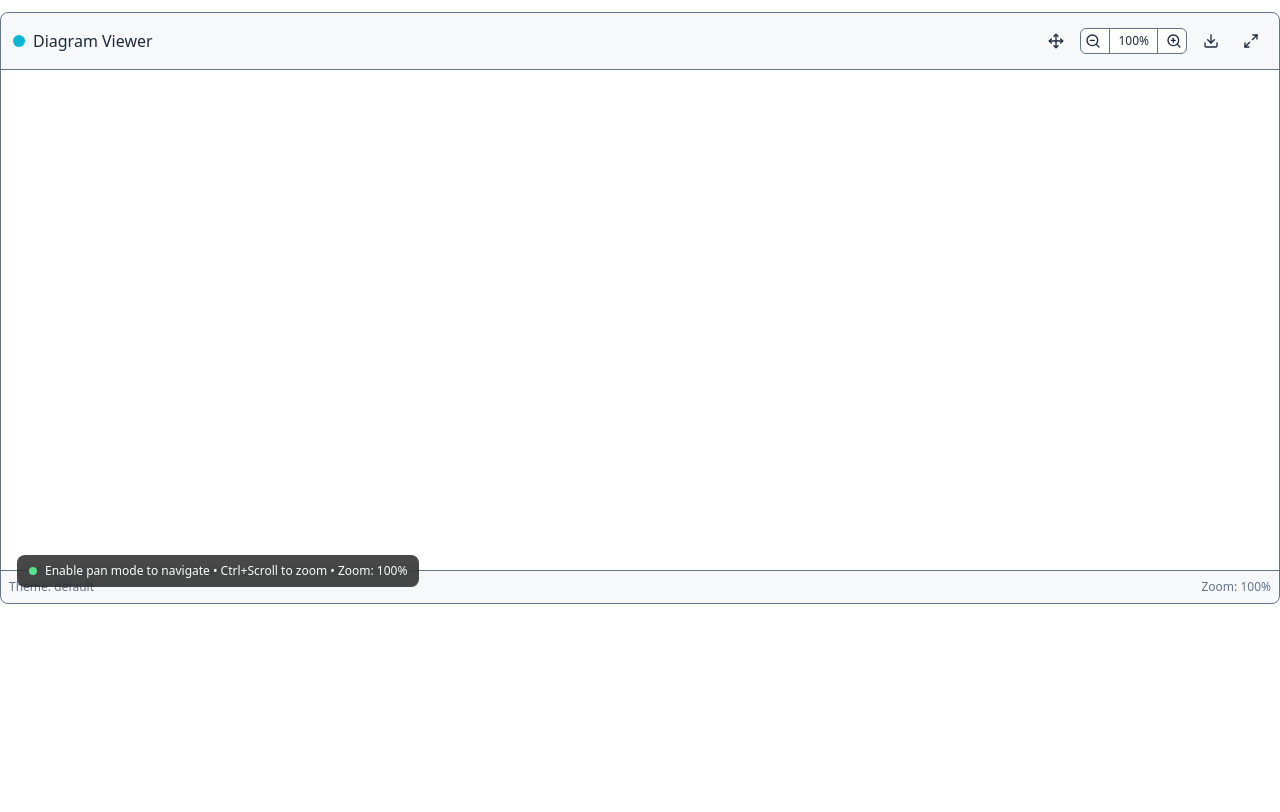
Scenario: DiagramViewer › should handle zoom out
Click the button titled "Zoom Out". click: (1093, 41)
box: top-left (1081, 29), bottom-right (1105, 53)
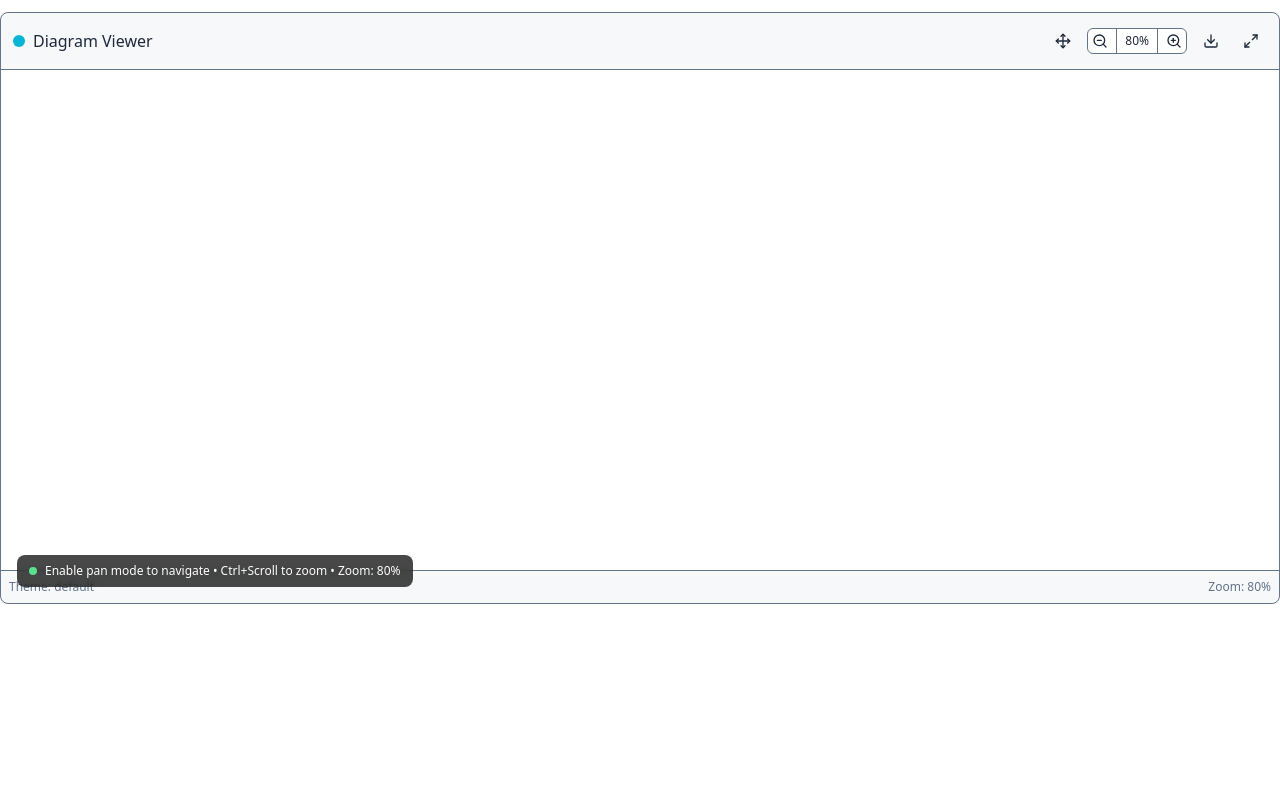
Expected: the button "80%" is shown, top-left (1116, 29), bottom-right (1158, 53)
